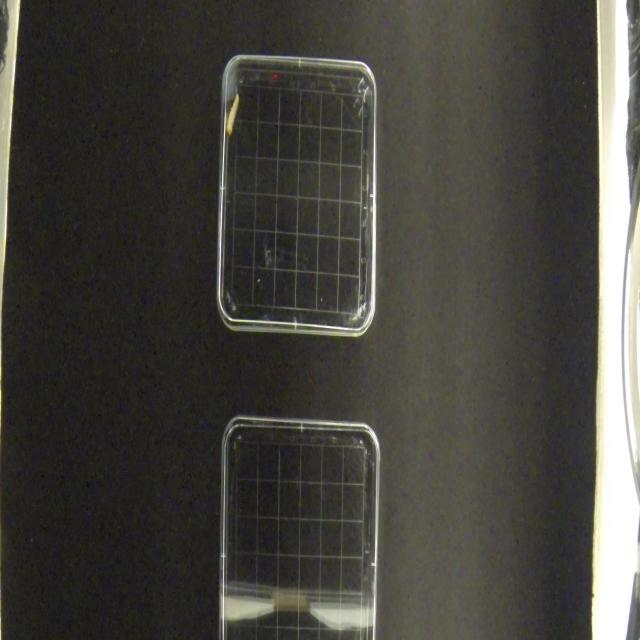larva: (226, 92, 242, 138)
